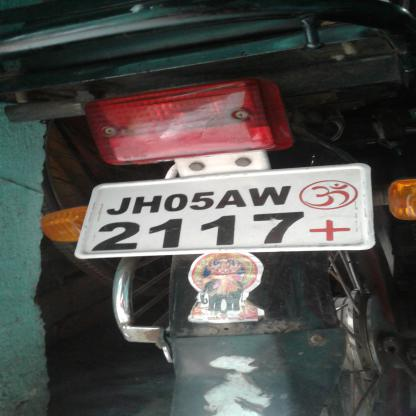Number_Plate_Detected: (91, 171, 309, 268)
